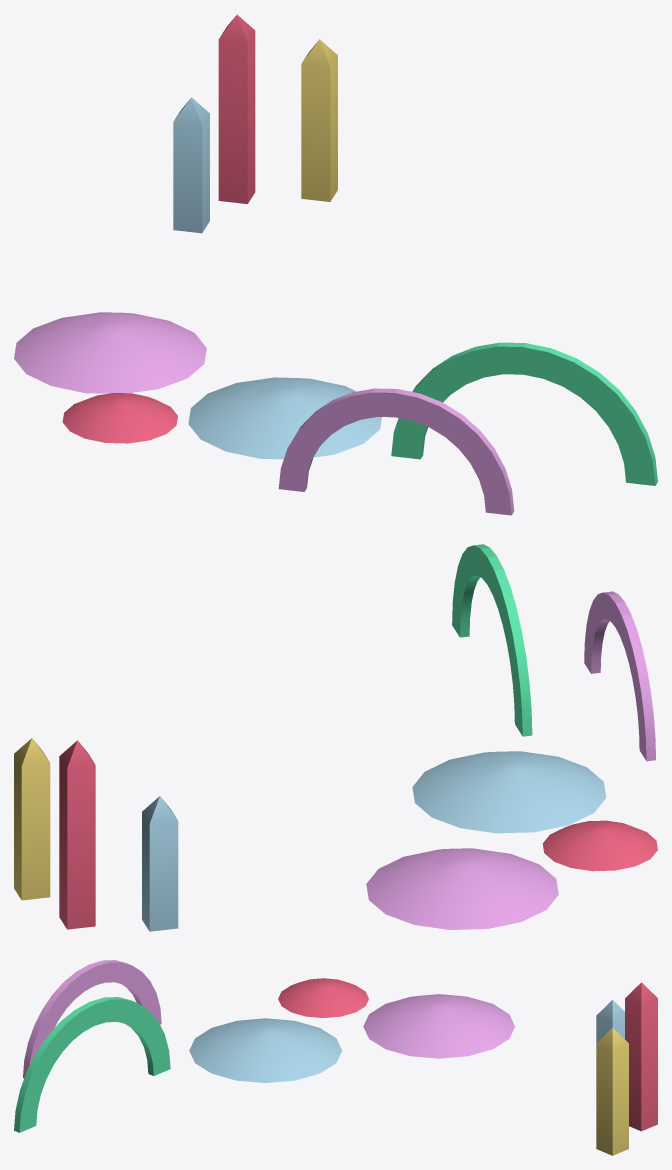
The model's file is playground3.fbx.
3 renders of one model, top to bottom at view 1: azimuth 30°, elevation 25°; view 2: azimuth 150°, elevation 25°; view 3: azimuth 270°, elevation 25°, orthographic. The views are drawn at different scales.
Visible parts, largest first — view 1: Sphere; view 2: Sphere; view 3: Sphere.
Part boxes in pixels (bbox=[...]): Sphere: bbox=[14, 14, 657, 515]; Sphere: bbox=[14, 544, 657, 931]; Sphere: bbox=[14, 960, 657, 1155].
Size of the model in its own units: 1767 by 679 by 2785.
